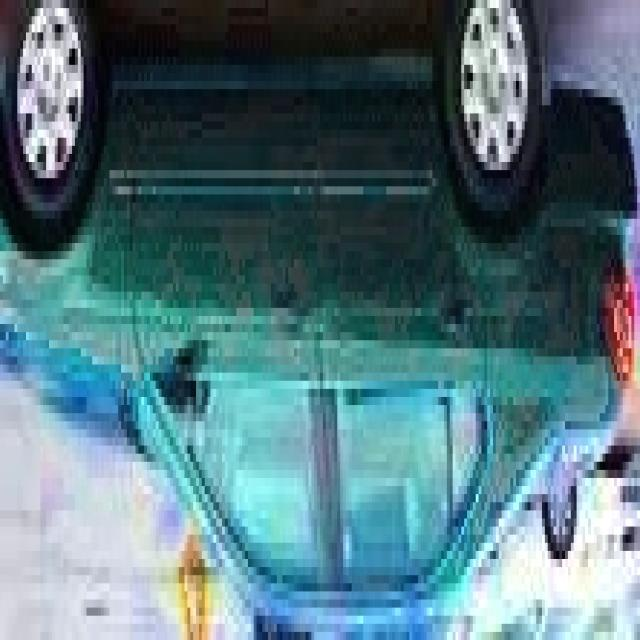green: (0, 4, 634, 628)
